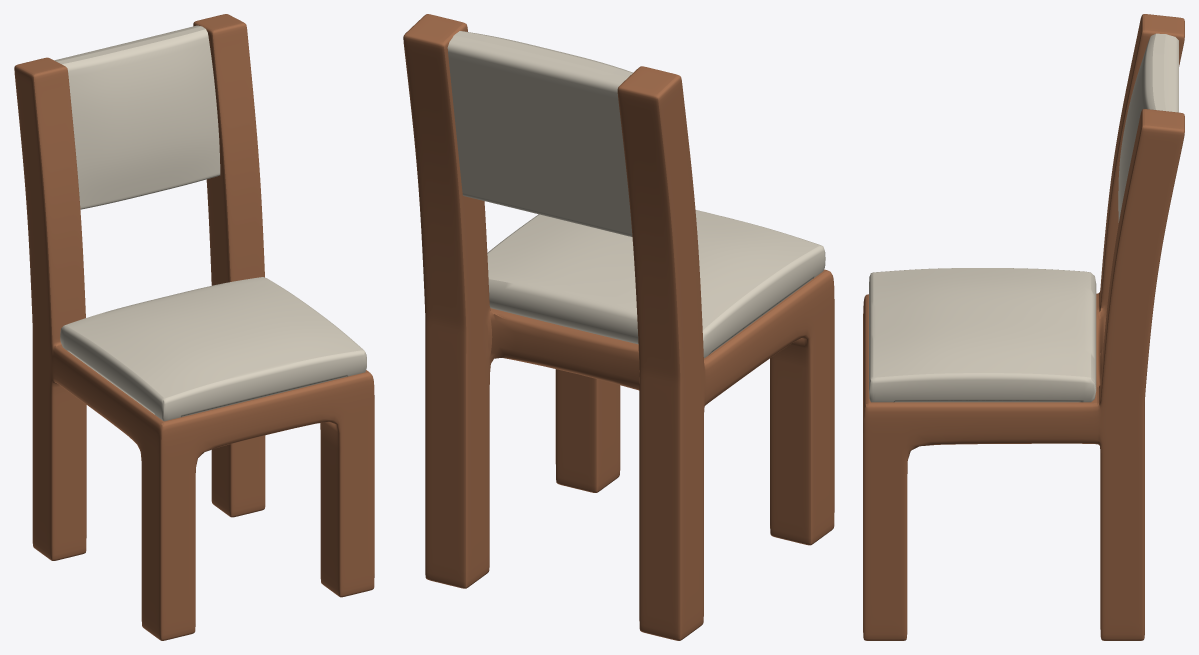
File: Stuhl.fbx
3 views of the same model, side by side, from view 1: azimuth 30°, elevation 25°; view 2: azimuth 150°, elevation 25°; view 3: azimuth 270°, elevation 25° (orthographic). The views are drawn at different scales.
Visible parts, largest first — view 1: Stuhl; view 2: Stuhl; view 3: Stuhl.
Part boxes in pixels (left/top/right/bottom): Stuhl: left=14, top=14, right=374, bottom=640; Stuhl: left=403, top=14, right=834, bottom=640; Stuhl: left=863, top=14, right=1184, bottom=640.
Size of the model in its own units: 200 by 422 by 239.
